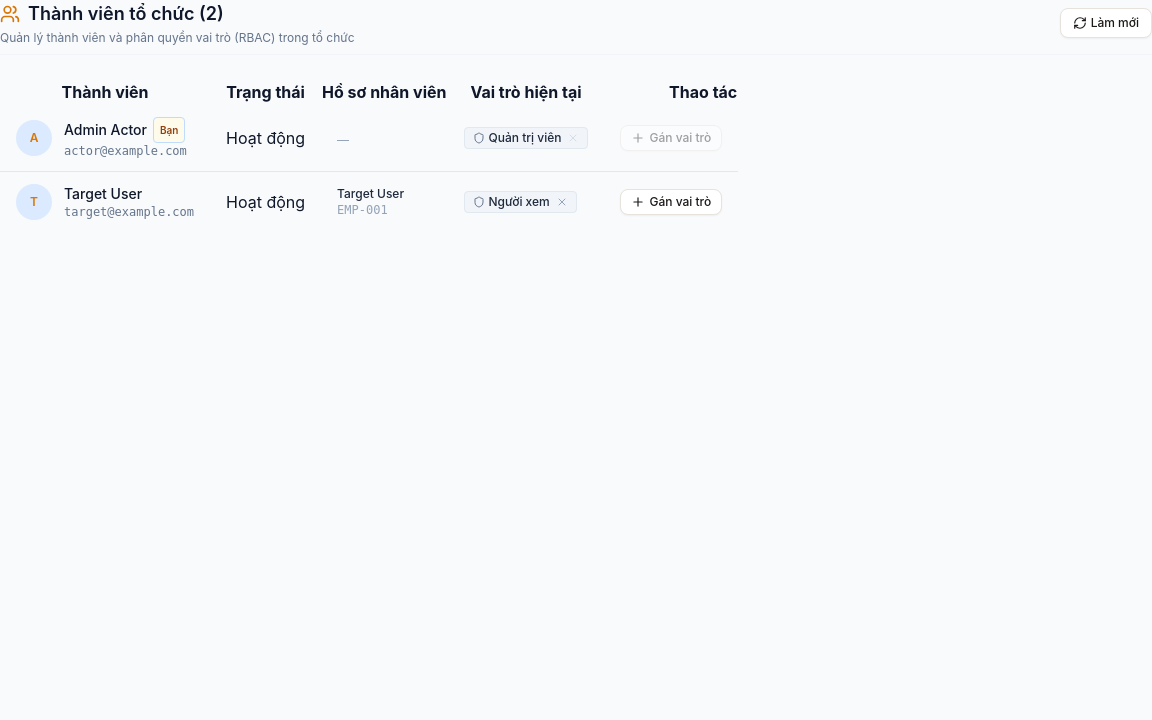
DXOS-FRONTEND-004: Members & Role Administration Tests › loads role catalog from backend, displays role options, and does not provide manual UUID input
Expected: the 1st text "Target User" is shown, [64,184,142,204]
What coordinates should you click on to do the following:
click the button "Gán vai trò" in the row of "target@example.com"
I would click on:
 (671, 202)
Its box is [620,189,722,215].
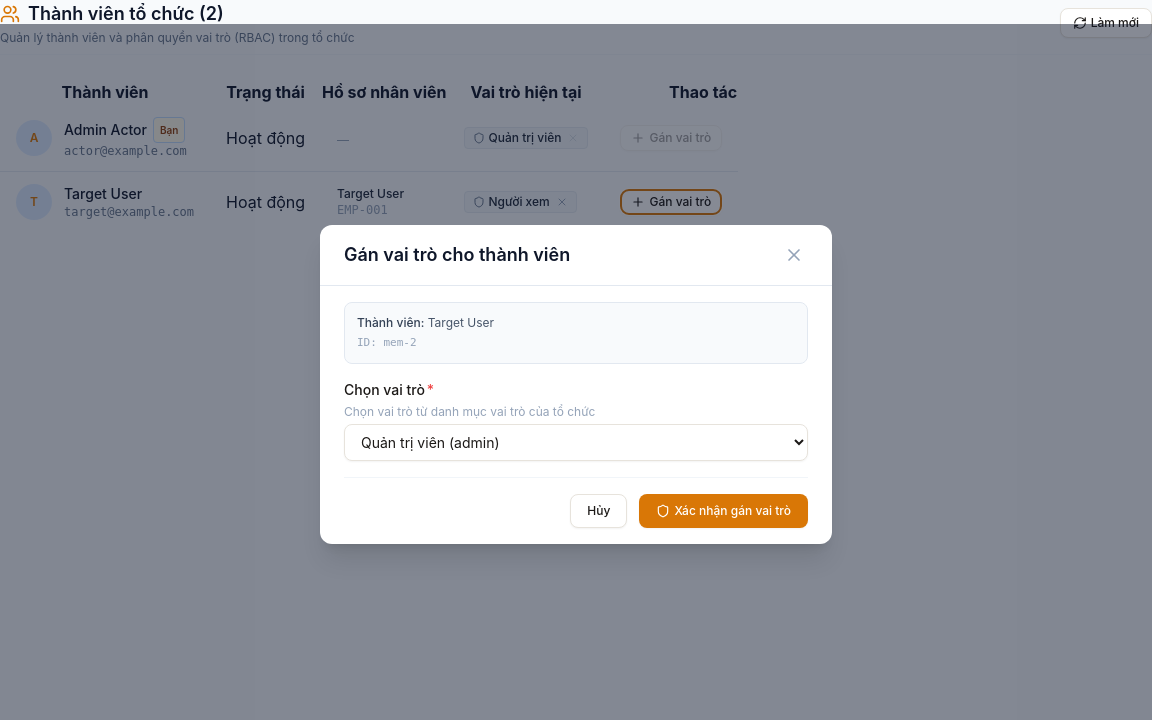
Expected: the heading "Gán vai trò cho thành viên" is shown, [344,240,570,268]
Expected: the dropdown is shown, [344,424,808,460]
